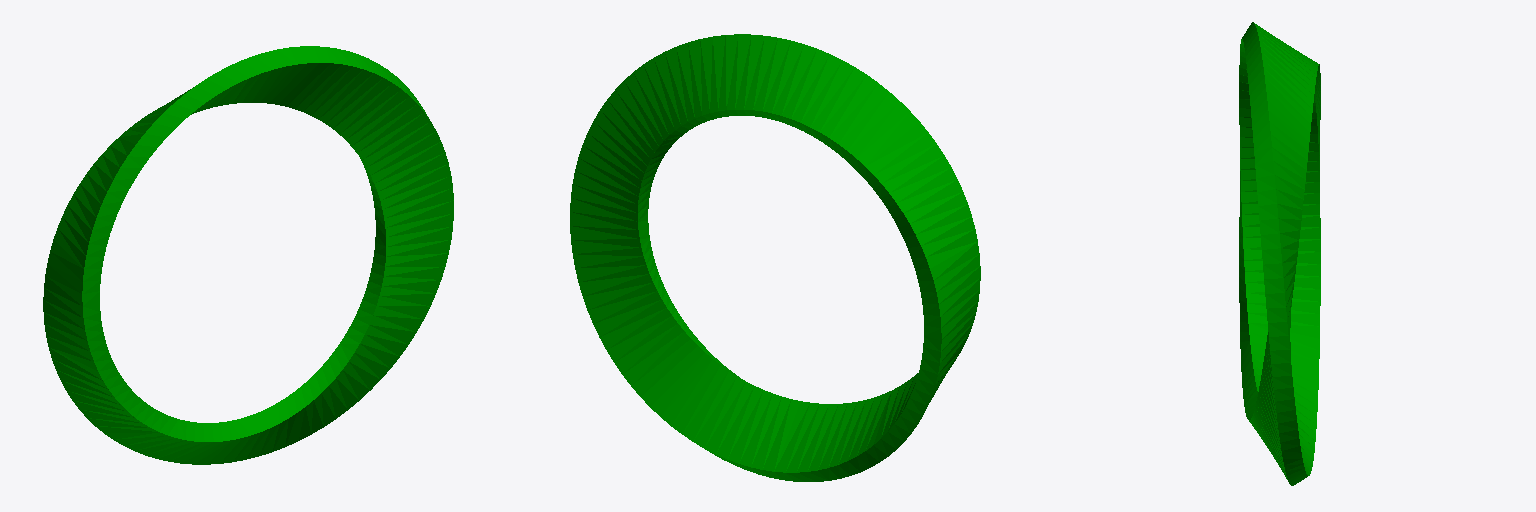
Rendered from mobius_M.obj.
The picture shows the model from 3 angles: view 1: azimuth 30°, elevation 25°; view 2: azimuth 150°, elevation 25°; view 3: azimuth 270°, elevation 25°; orthographic projection.
Visible parts, largest first — view 1: OpenSCAD_Model; view 2: OpenSCAD_Model; view 3: OpenSCAD_Model.
Part boxes in pixels (bbox=[...]): OpenSCAD_Model: bbox=[43, 46, 453, 464]; OpenSCAD_Model: bbox=[570, 34, 980, 481]; OpenSCAD_Model: bbox=[1239, 22, 1320, 485].
Size of the model in its own units: 113 by 118 by 20.61.